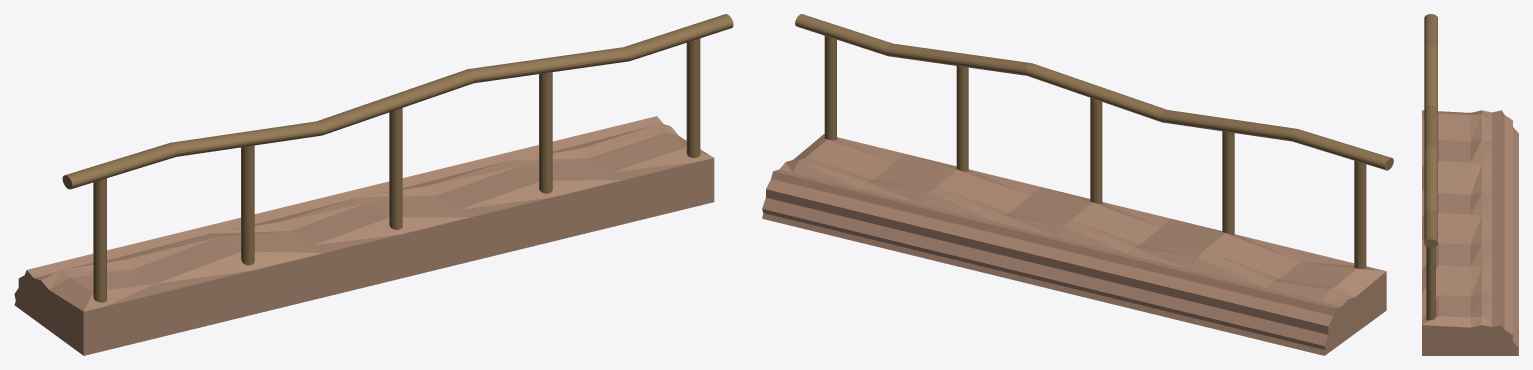
Rendered from WoodPlat.fbx.
3 renders of one model, left to right at view 1: azimuth 30°, elevation 25°; view 2: azimuth 150°, elevation 25°; view 3: azimuth 270°, elevation 25°, orthographic. The views are drawn at different scales.
Parts seen in each view (by area): view 1: polySurface151; view 2: polySurface151; view 3: polySurface151.
Part boxes in pixels (x1,y1,x2,y2): polySurface151: [14, 14, 733, 355]; polySurface151: [762, 14, 1393, 355]; polySurface151: [1422, 14, 1518, 355].
Size of the model in its own units: 12.18 by 3.26 by 2.21.
